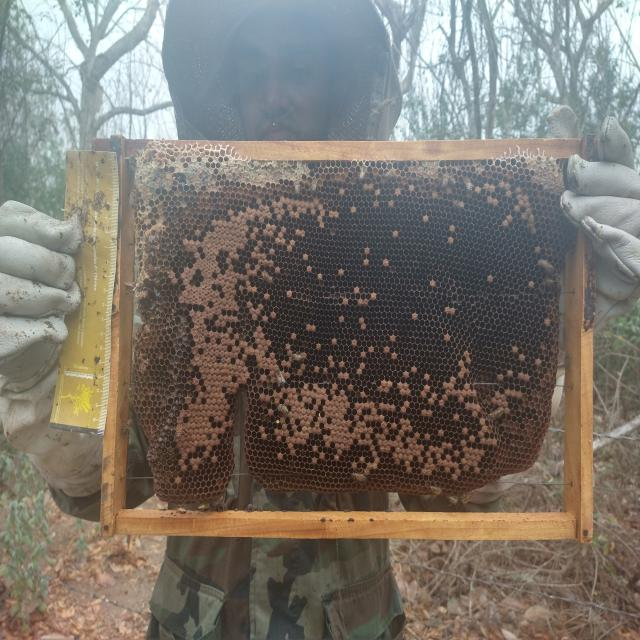cria: (169, 182, 559, 486)
marco: (123, 159, 575, 509)
